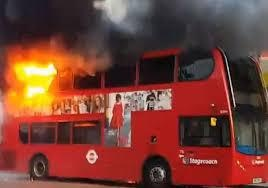fire: (4, 52, 60, 110)
